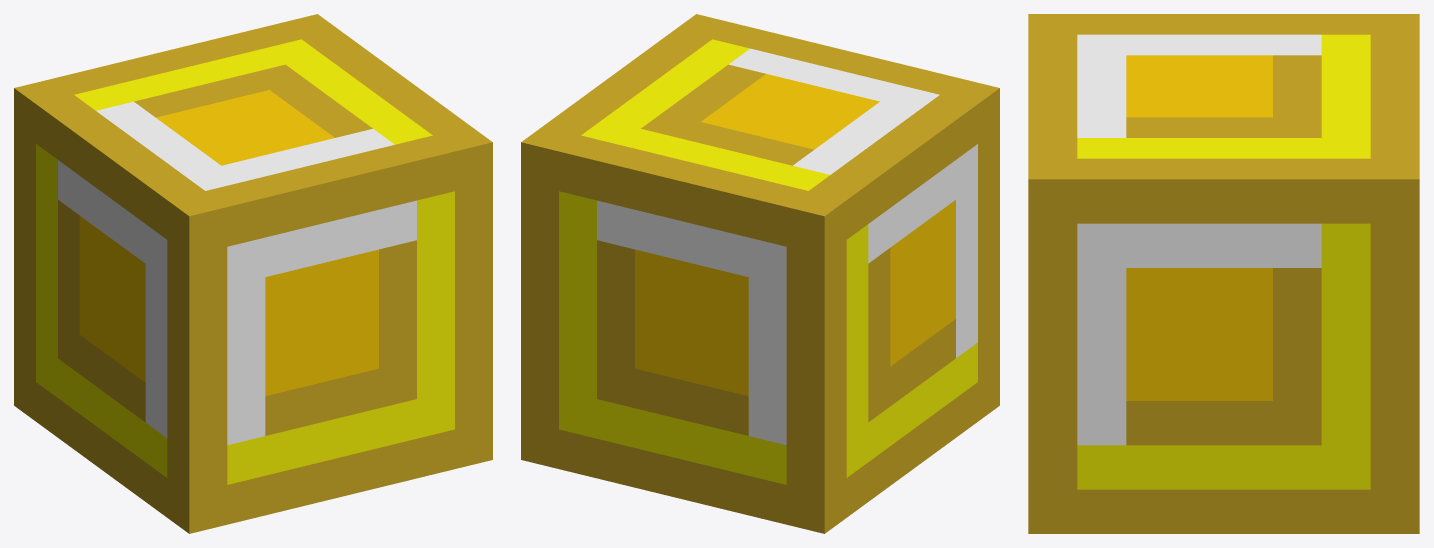
File: cube_jaune.obj
The picture shows the model from 3 angles, left to right: view 1: azimuth 30°, elevation 25°; view 2: azimuth 150°, elevation 25°; view 3: azimuth 270°, elevation 25°; orthographic projection. The views are drawn at different scales.
Bounding box in the file's own units: 0.8 × 0.8 × 0.8.
1 material, 1 textured.
